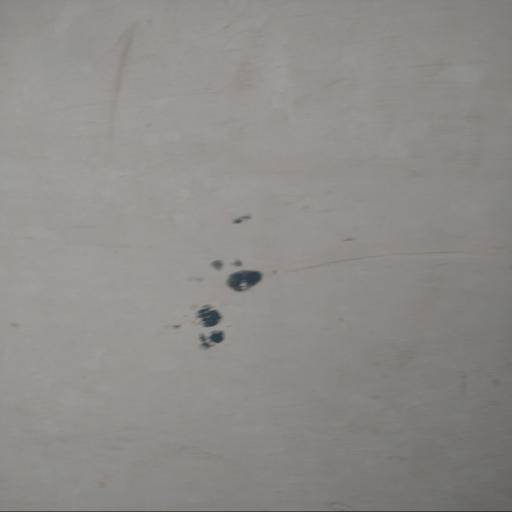stain: (161, 200, 279, 369), (221, 8, 348, 129), (272, 230, 512, 293), (406, 39, 512, 154), (96, 12, 157, 138)
